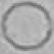no answer: (2, 2, 52, 52)
